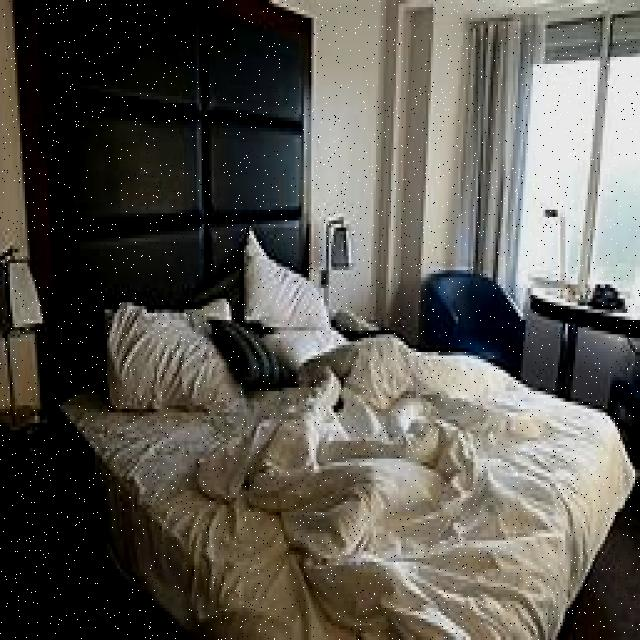bed: (61, 229, 637, 640)
